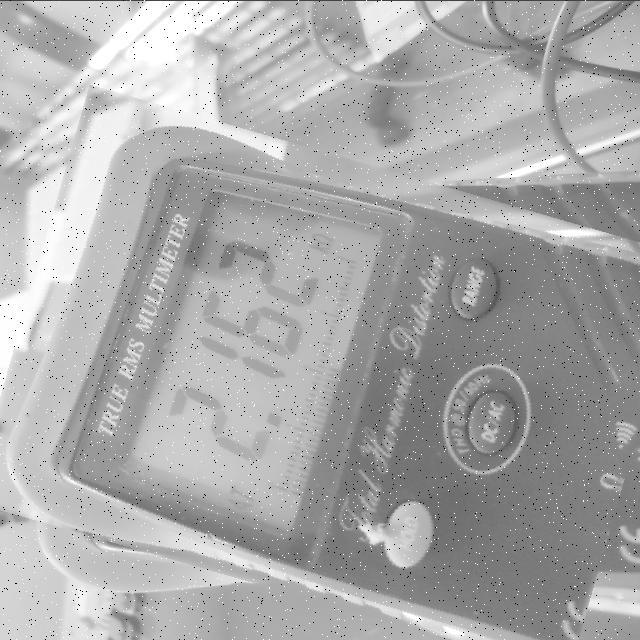display: (122, 194, 386, 538)
frame: (163, 223, 330, 481)
gauge: (1, 103, 639, 640)
